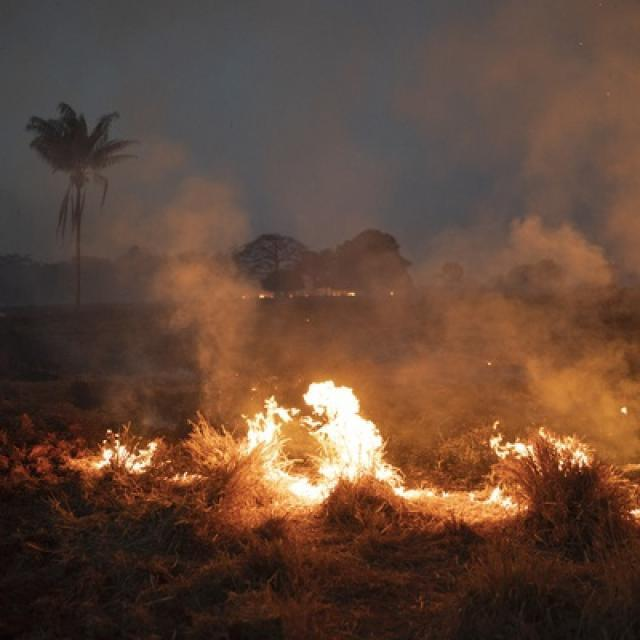Fire: (76, 377, 594, 530)
Smoke: (88, 138, 640, 372)
